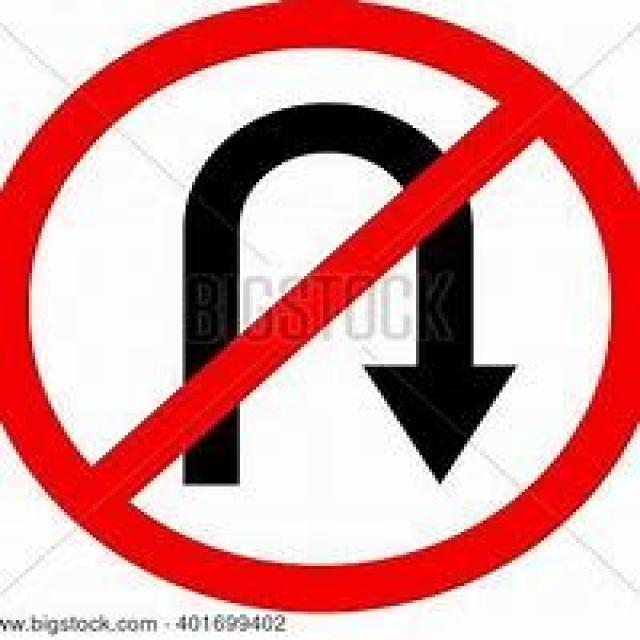u turn prohibited: (25, 21, 620, 620)
